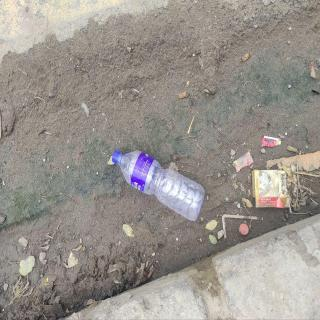Plastic-bottle: (112, 147, 207, 224)
